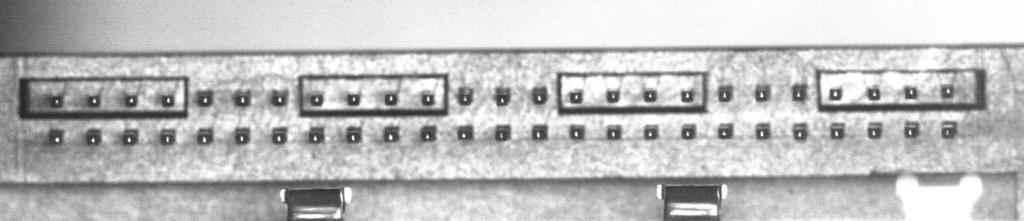pin_ok: (494, 86, 511, 105), (457, 86, 474, 105), (233, 89, 252, 106), (829, 122, 846, 140), (195, 89, 213, 106), (531, 86, 548, 104), (270, 89, 287, 106), (941, 120, 957, 138), (456, 124, 473, 140), (420, 125, 437, 141), (494, 125, 511, 141), (308, 127, 325, 143), (867, 121, 883, 138), (271, 127, 287, 144), (234, 127, 250, 144), (196, 128, 213, 144), (904, 121, 920, 138), (85, 128, 101, 145), (383, 126, 400, 142), (48, 128, 65, 144), (531, 124, 547, 140), (569, 124, 585, 140), (606, 124, 622, 140), (643, 124, 659, 140), (717, 85, 733, 101), (717, 123, 733, 139), (345, 127, 361, 143), (159, 129, 175, 145), (756, 122, 771, 139), (792, 84, 807, 101), (793, 123, 808, 140), (123, 128, 138, 145), (755, 85, 770, 101), (681, 124, 696, 139), (680, 88, 695, 103), (568, 89, 583, 104), (866, 86, 881, 100), (941, 84, 955, 98), (346, 92, 360, 106), (643, 88, 657, 102), (828, 87, 842, 101), (606, 88, 620, 102), (421, 91, 435, 105), (904, 86, 919, 99), (309, 93, 324, 106), (384, 92, 398, 105), (161, 94, 175, 107), (49, 95, 63, 108), (125, 94, 138, 107), (86, 95, 100, 107)
